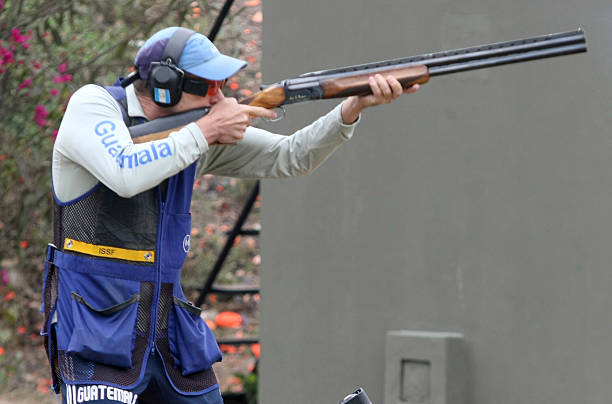shotgun: (118, 25, 589, 151)
